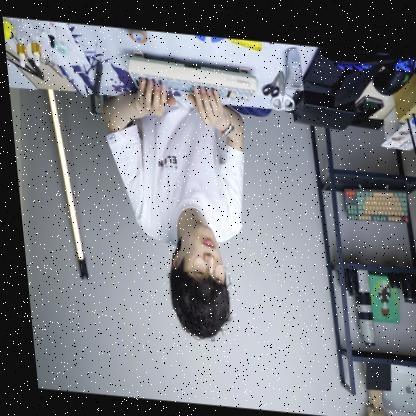streamer: (93, 71, 259, 342)
